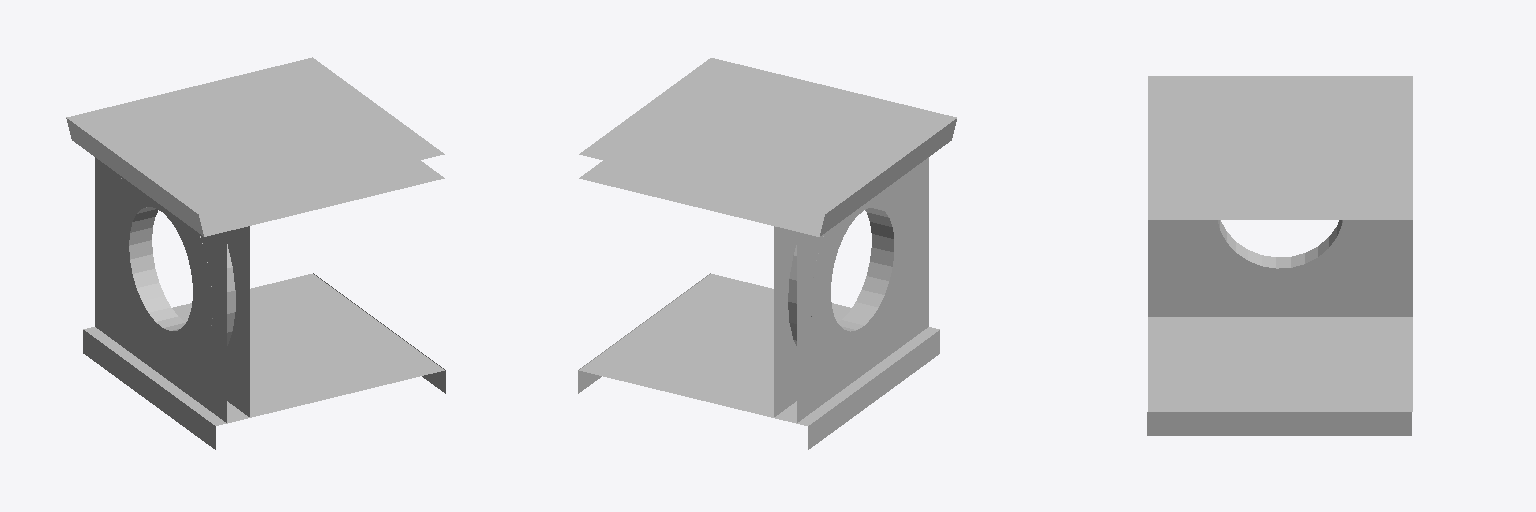
3 renders of one model, left to right at view 1: azimuth 30°, elevation 25°; view 2: azimuth 150°, elevation 25°; view 3: azimuth 270°, elevation 25°, orthographic.
Parts seen in each view (by area): view 1: objobjobjRegroup09; view 2: objobjobjRegroup09; view 3: objobjobjRegroup09.
Part boxes in pixels (x1,y1,x2,y2): objobjobjRegroup09: (66, 57, 445, 449); objobjobjRegroup09: (578, 58, 956, 449); objobjobjRegroup09: (1147, 76, 1412, 435).
Size of the model in its own units: 10.77 by 10 by 10.01.